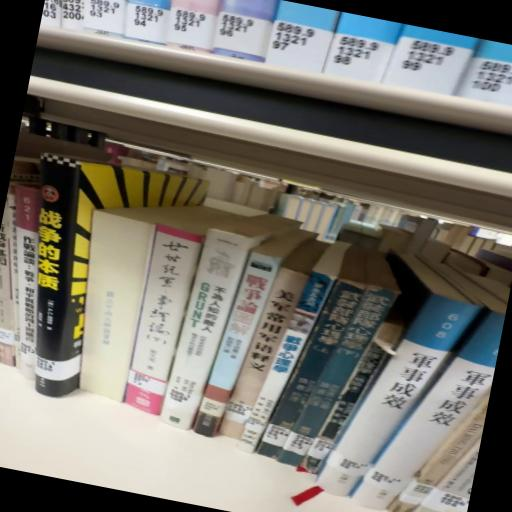backward: (59, 203, 162, 410)
book: (254, 271, 404, 488), (1, 158, 117, 407), (194, 227, 309, 452), (238, 231, 344, 464), (161, 222, 262, 439), (116, 220, 206, 421)
